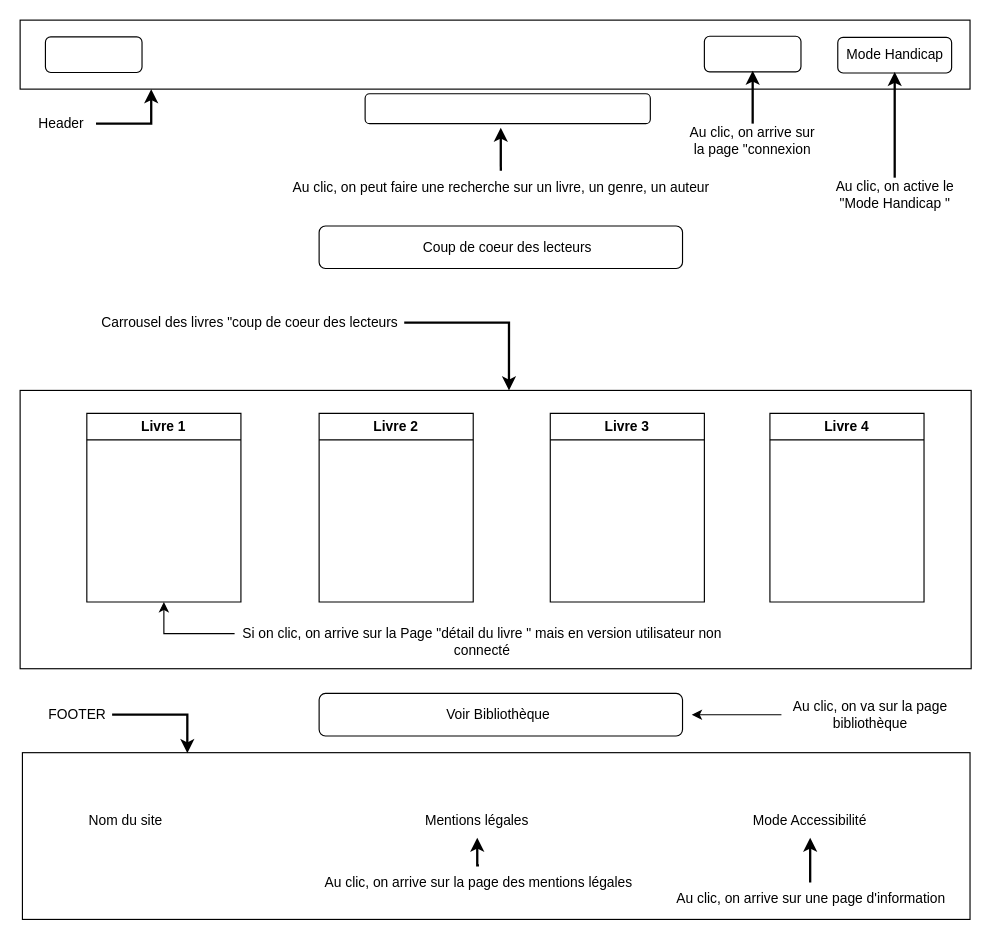
Image size: 991x940. Some labels were removed from this diagram. Each missing label, with the centre of its shape:
"Connexion" belongs at (x=752, y=53).
"Logo" belongs at (x=93, y=54).
"Moteur de recherche" belongs at (x=507, y=108).
